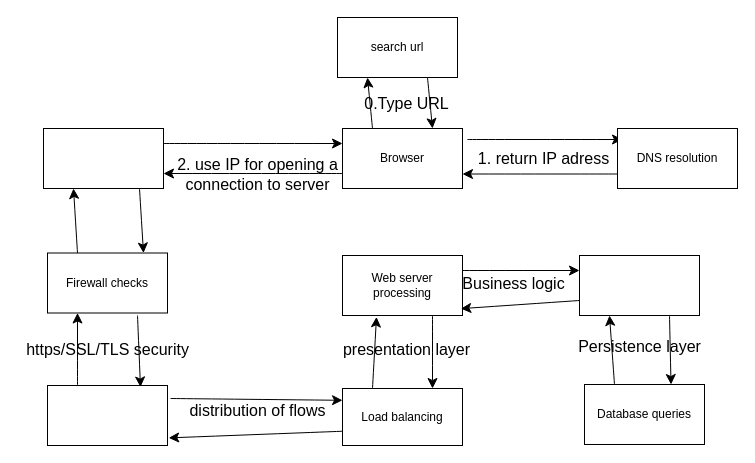
Some shapes in this 755 by 463 pixel diagram are drawn without their labels. The centre of each missing label's shape, as x and y in pixels:
Application server logic: the point at 639,285
TCP/IP handshake: the point at 103,158
TLS handshake: the point at 107,415
